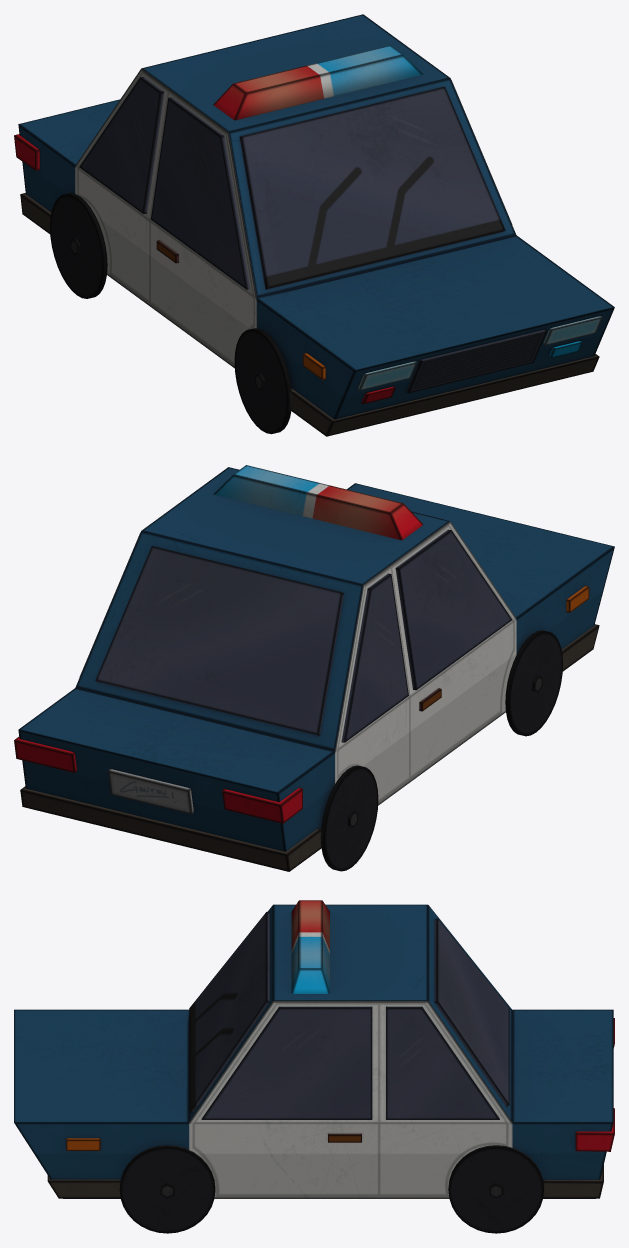
Rendered from PoliceCar.glb.
The picture shows the model from 3 angles, top to bottom: view 1: azimuth 30°, elevation 25°; view 2: azimuth 150°, elevation 25°; view 3: azimuth 270°, elevation 25°; orthographic projection. The views are drawn at different scales.
Visible parts, largest first — view 1: Police_car1; view 2: Police_car1; view 3: Police_car1.
Boxes of the visible parts, x1=… form: Police_car1: x1=14, y1=14, x2=614, y2=436; Police_car1: x1=14, y1=465, x2=614, y2=871; Police_car1: x1=14, y1=900, x2=614, y2=1233.
Size of the model in its own units: 0.142 by 0.1304 by 0.2969.
1 material, 1 textured.
